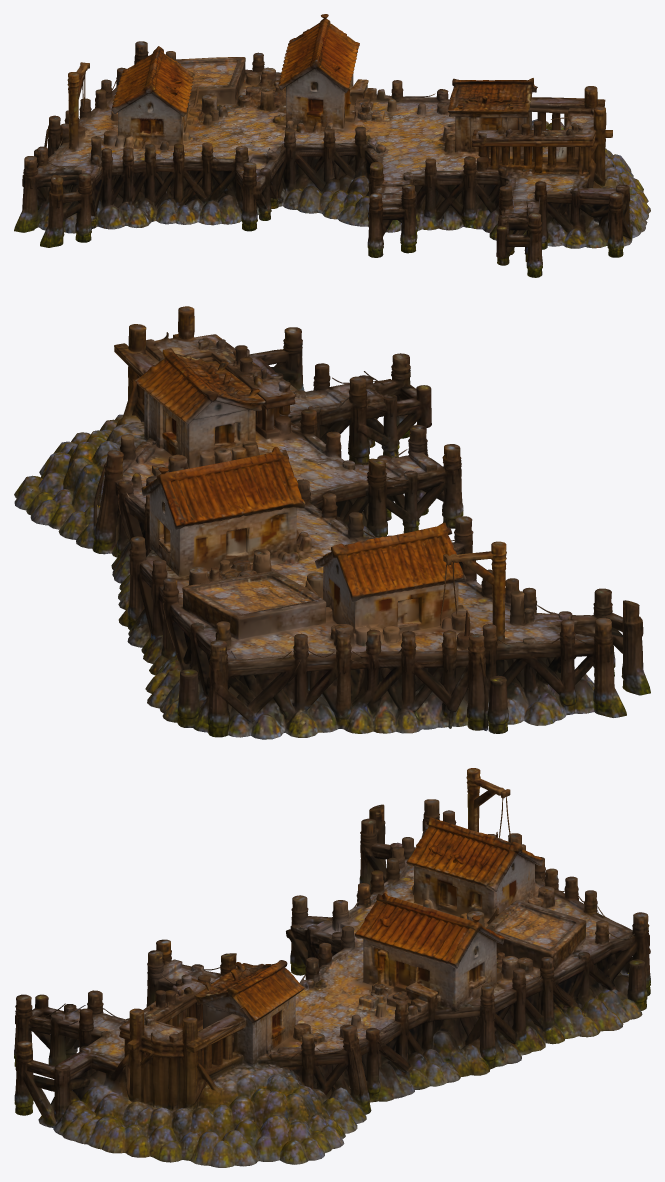
The model's file is saltgate_quay.glb.
3 views of the same model, one above another, from view 1: azimuth 30°, elevation 25°; view 2: azimuth 150°, elevation 25°; view 3: azimuth 270°, elevation 25° (orthographic). The views are drawn at different scales.
Visible parts, largest first — view 1: material; view 2: material; view 3: material.
Part boxes in pixels (x1,y1,x2,y2): material: (14,14,650,277); material: (14,306,650,739); material: (14,768,650,1167).
Bounding box in the file's own units: 1.07 × 0.2422 × 0.9637.
Materials: 1 (1 with a texture image).
